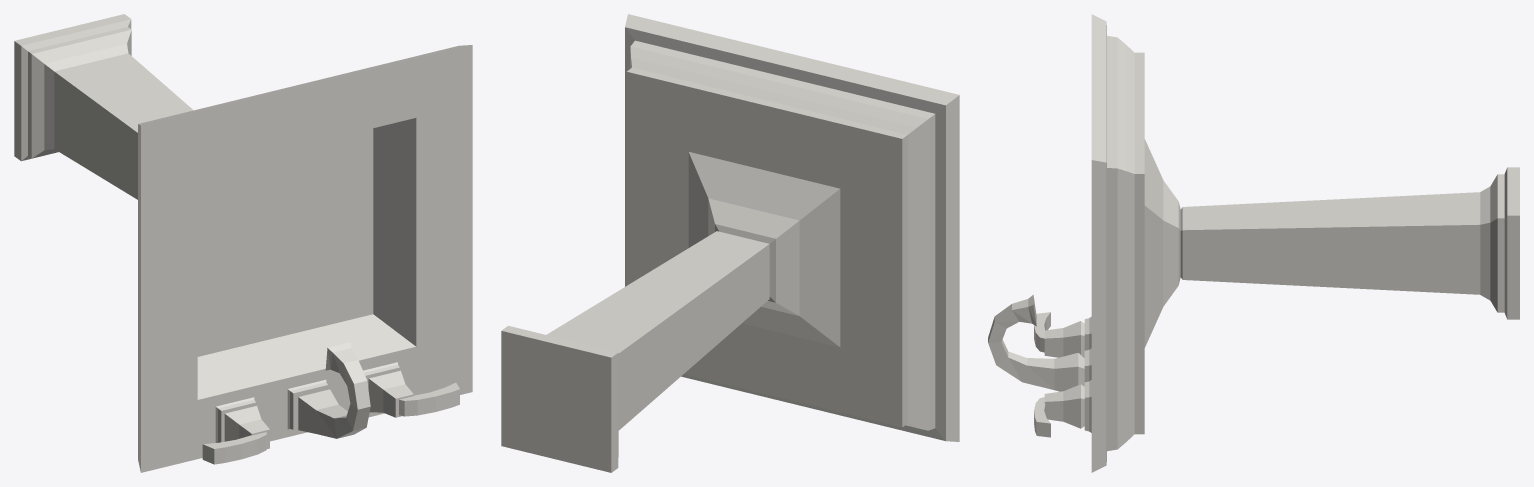
Rendered from washbasin2.obj.
3 renders of one model, left to right at view 1: azimuth 30°, elevation 25°; view 2: azimuth 150°, elevation 25°; view 3: azimuth 270°, elevation 25°, orthographic. The views are drawn at different scales.
Visible parts, largest first — view 1: Object.2, Object.1, Object.3, Object.6, Object.5, Object.7, Object.4, Object.9, Object.10; view 2: Object.2, Object.1; view 3: Object.1, Object.2, Object.3, Object.6, Object.4.
Part boxes in pixels (box(x1,y1,x2,y2)): Object.2: box(138, 45, 472, 472); Object.1: box(14, 14, 193, 199); Object.3: box(298, 342, 370, 438); Object.6: box(368, 370, 413, 417); Object.5: box(202, 432, 266, 464); Object.7: box(399, 382, 459, 416); Object.4: box(224, 406, 269, 448); Object.9: box(287, 379, 327, 429); Object.10: box(215, 397, 255, 442); Object.2: box(625, 14, 959, 441); Object.1: box(501, 152, 840, 472); Object.1: box(1144, 139, 1519, 347); Object.2: box(1091, 14, 1144, 472); Object.3: box(988, 295, 1084, 391); Object.6: box(1044, 384, 1084, 428); Object.4: box(1044, 321, 1084, 357).
Size of the model in its own units: 38.84 by 38.84 by 59.79.
